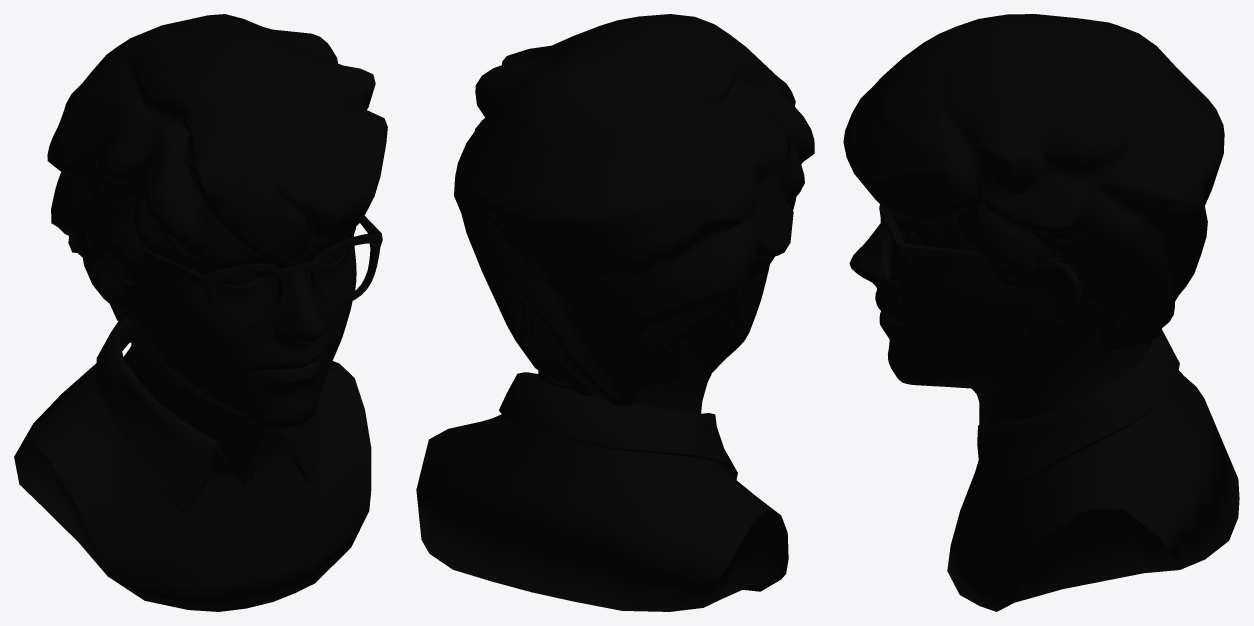
Rendered from NewModel.glb.
3 renders of one model, left to right at view 1: azimuth 30°, elevation 25°; view 2: azimuth 150°, elevation 25°; view 3: azimuth 270°, elevation 25°, orthographic. The views are drawn at different scales.
Visible parts, largest first — view 1: Wolf3D_Avatar; view 2: Wolf3D_Avatar; view 3: Wolf3D_Avatar.
Boxes of the visible parts, x1=… form: Wolf3D_Avatar: x1=14, y1=14, x2=387, y2=611; Wolf3D_Avatar: x1=416, y1=14, x2=814, y2=611; Wolf3D_Avatar: x1=843, y1=14, x2=1239, y2=611.
Bounding box in the file's own units: 0.2312 × 0.3844 × 0.2486.
1 material, 1 textured.
